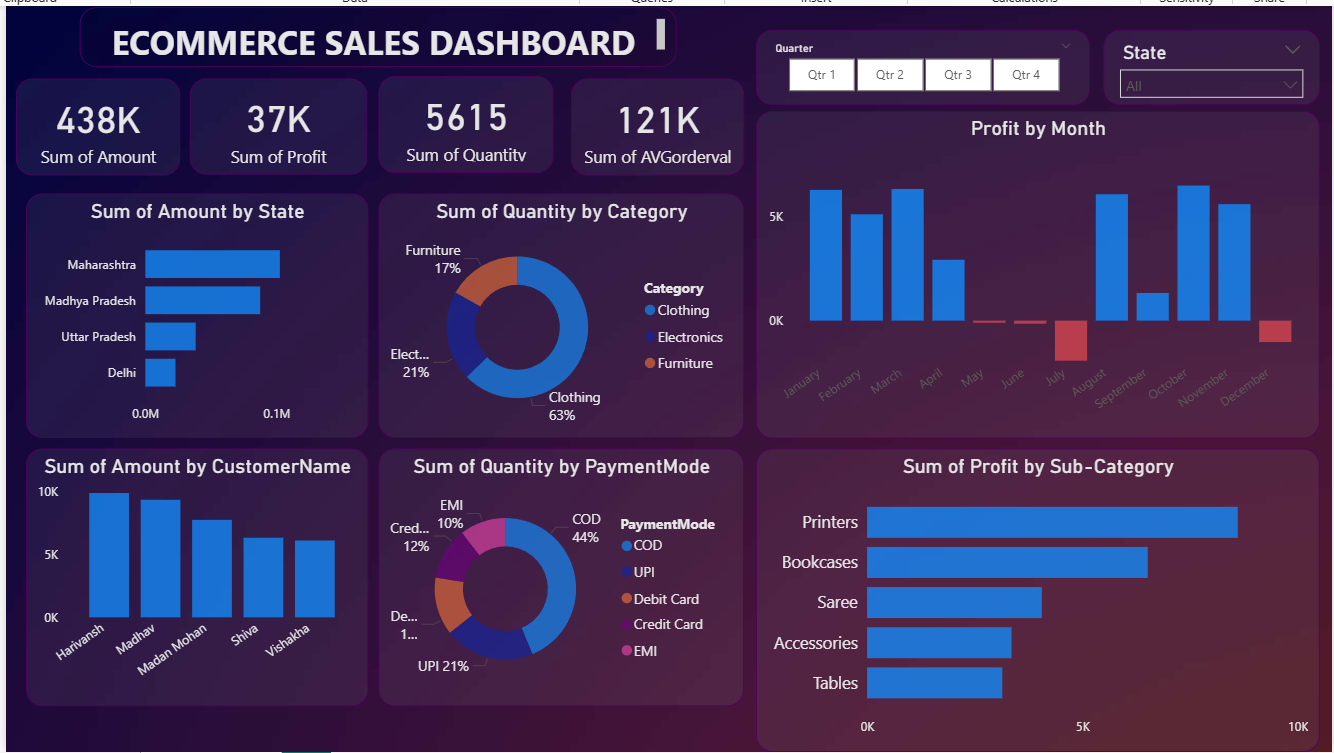

What the dashboard file says about the page in this screenshot:
{"tool":"powerbi","page":{"name":"Page 1","canvas":[1280,720],"ordinal":0},"visuals":[{"type":"textbox","box":[71.2,1.2,576.2,57.5],"z":0},{"type":"columnChart","title":" Profit by Month","fields":{"Y":["Details.Profit"],"Category":["Orders.Order Date.Variation.Date Hierarchy.Month"]},"box":[723.8,101.2,543.8,316.2],"z":1000},{"type":"barChart","fields":{"Category":["Details.Sub-Category"],"Y":["Details.Profit"]},"box":[723.8,427.5,543.8,292.5],"z":2000},{"type":"donutChart","fields":{"Category":["Details.Category"],"Y":["Details.Quantity"]},"box":[360,181.2,352.5,236.2],"z":3000},{"type":"donutChart","fields":{"Y":["Details.Quantity"],"Category":["Details.PaymentMode"]},"box":[360,427.5,352.5,248.8],"z":4000},{"type":"card","fields":{"Values":["Details.Amount"]},"box":[10,70,158.8,93.8],"z":5000},{"type":"card","fields":{"Values":["Details.Quantity"]},"box":[360,67.5,168.8,93.8],"z":6000},{"type":"card","fields":{"Values":["Details.Profit"]},"box":[177.5,70,171.2,92.5],"z":7000},{"type":"card","fields":{"Values":["Details.AVGorderval"]},"box":[545,70,167.5,93.8],"z":8000},{"type":"barChart","fields":{"Category":["Orders.State"],"Y":["Details.Amount"]},"box":[18.8,181.2,330,236.2],"z":9000},{"type":"columnChart","fields":{"Category":["Orders.CustomerName"],"Y":["Details.Amount"]},"box":[18.8,427.5,330,248.8],"z":10000},{"type":"slicer","fields":{"Values":["Orders.Order Date.Variation.Date Hierarchy.Quarter"]},"box":[723.8,22.5,322.5,72.5],"z":11000},{"type":"slicer","fields":{"Values":["Orders.State"]},"box":[1058.8,22.5,208.8,72.5],"z":12000}]}

Visuals, with their boxes on the page's 1280x720 design canvas (x1, y1, x2, y2). These are canvas units, not pixel positions in the 1334x753 screenshot, which may show the page scaled, cropped or inside an application window:
textbox: (left=71, top=1, right=647, bottom=59)
" Profit by Month" columnChart: (left=724, top=101, right=1268, bottom=417)
barChart - Details.Sub-Category x Details.Profit: (left=724, top=428, right=1268, bottom=720)
donutChart - Details.Category x Details.Quantity: (left=360, top=181, right=712, bottom=417)
donutChart - Details.Quantity x Details.PaymentMode: (left=360, top=428, right=712, bottom=676)
card - Details.Amount: (left=10, top=70, right=169, bottom=164)
card - Details.Quantity: (left=360, top=68, right=529, bottom=161)
card - Details.Profit: (left=178, top=70, right=349, bottom=162)
card - Details.AVGorderval: (left=545, top=70, right=712, bottom=164)
barChart - Orders.State x Details.Amount: (left=19, top=181, right=349, bottom=417)
columnChart - Orders.CustomerName x Details.Amount: (left=19, top=428, right=349, bottom=676)
slicer - Orders.Order Date.Variation.Date Hierarchy.Quarter: (left=724, top=22, right=1046, bottom=95)
slicer - Orders.State: (left=1059, top=22, right=1268, bottom=95)
